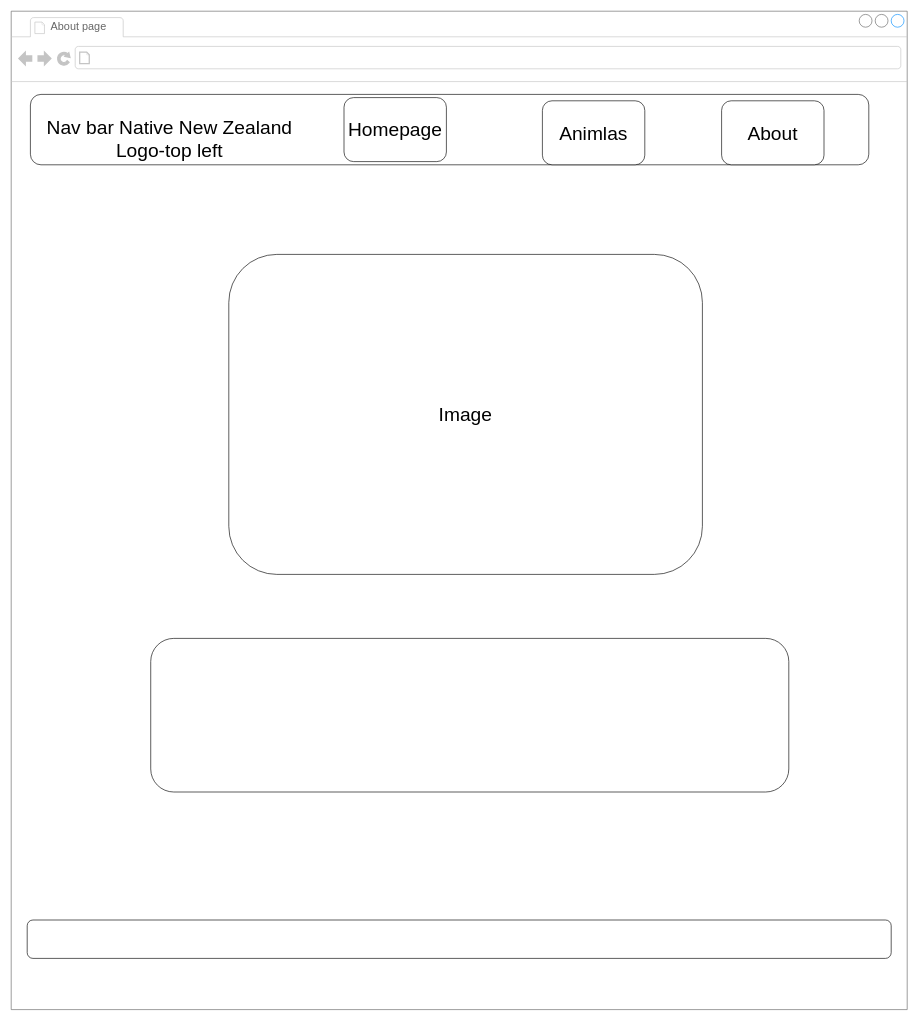
The diagram is 918 pixels wide and 1021 high, and some of its shapes have lost their labels. The centre of each missing label's shape, as x and y in pixels:
"Explain the reason/purpose of the website and what it ahieves" goes at [469,715].
"Footer, include information about socials,logo,links to information sources,etc" goes at [459,938].
"https://www.Nativeanimals.com" goes at [174,57].
